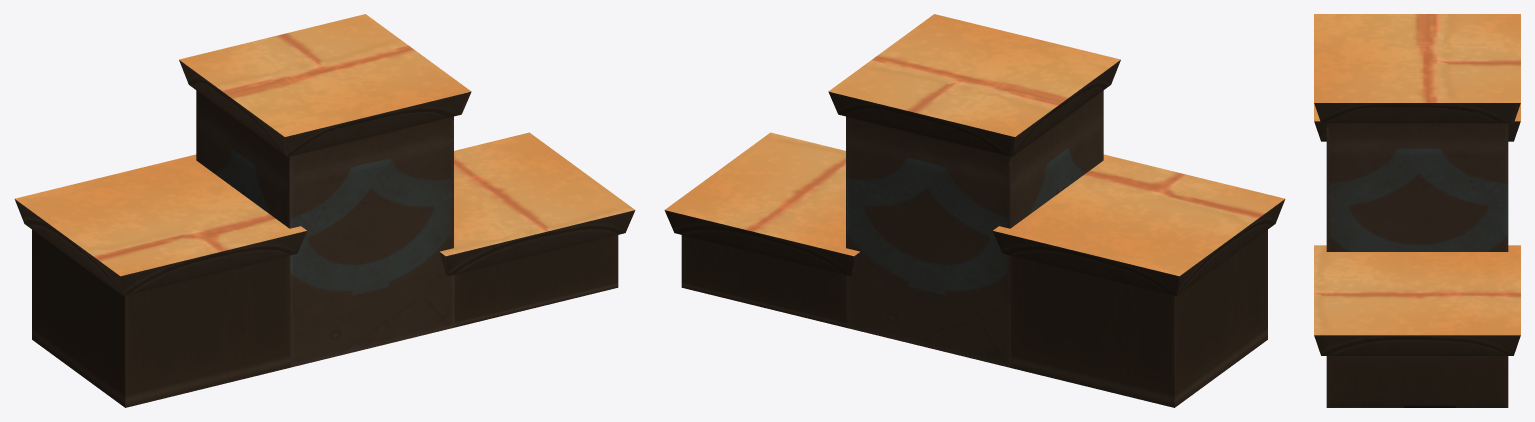
File: Podium_Art.glb
3 renders of one model, left to right at view 1: azimuth 30°, elevation 25°; view 2: azimuth 150°, elevation 25°; view 3: azimuth 270°, elevation 25°, orthographic. The views are drawn at different scales.
Visible parts, largest first — view 1: Podium_Art; view 2: Podium_Art; view 3: Podium_Art.
Part boxes in pixels (x1,y1,x2,y2): Podium_Art: (14, 14, 635, 407); Podium_Art: (664, 14, 1285, 407); Podium_Art: (1314, 14, 1520, 407).
Bounding box in the file's own units: 3.53 × 1.56 × 1.26.
Materials: 2 (2 with a texture image).
